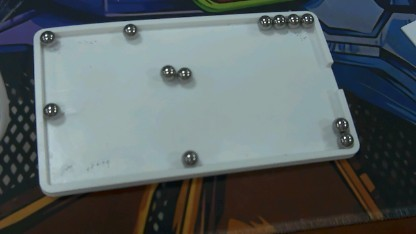ironball: (175, 63, 196, 87), (116, 22, 141, 41), (156, 61, 176, 83), (326, 114, 349, 132), (42, 100, 62, 120), (37, 27, 58, 46), (334, 132, 356, 150), (178, 146, 198, 164), (284, 12, 300, 31), (270, 13, 285, 32), (258, 12, 269, 30), (300, 12, 314, 26)
